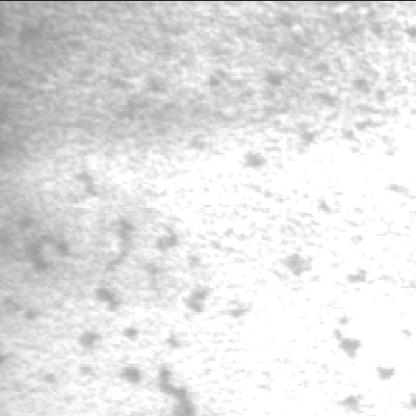pitted_surface: (19, 146, 414, 414), (29, 36, 408, 212)
